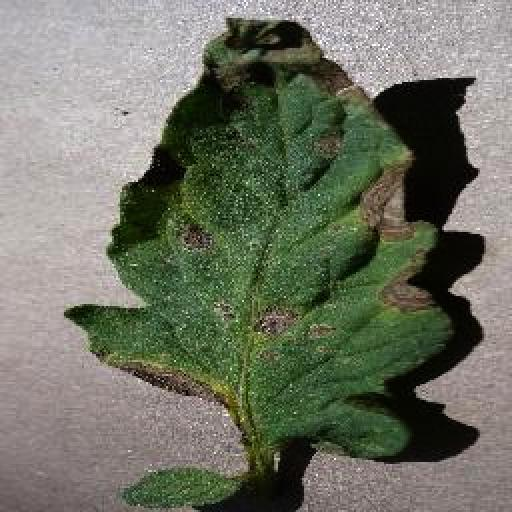disease_tomato: (64, 18, 446, 458)
